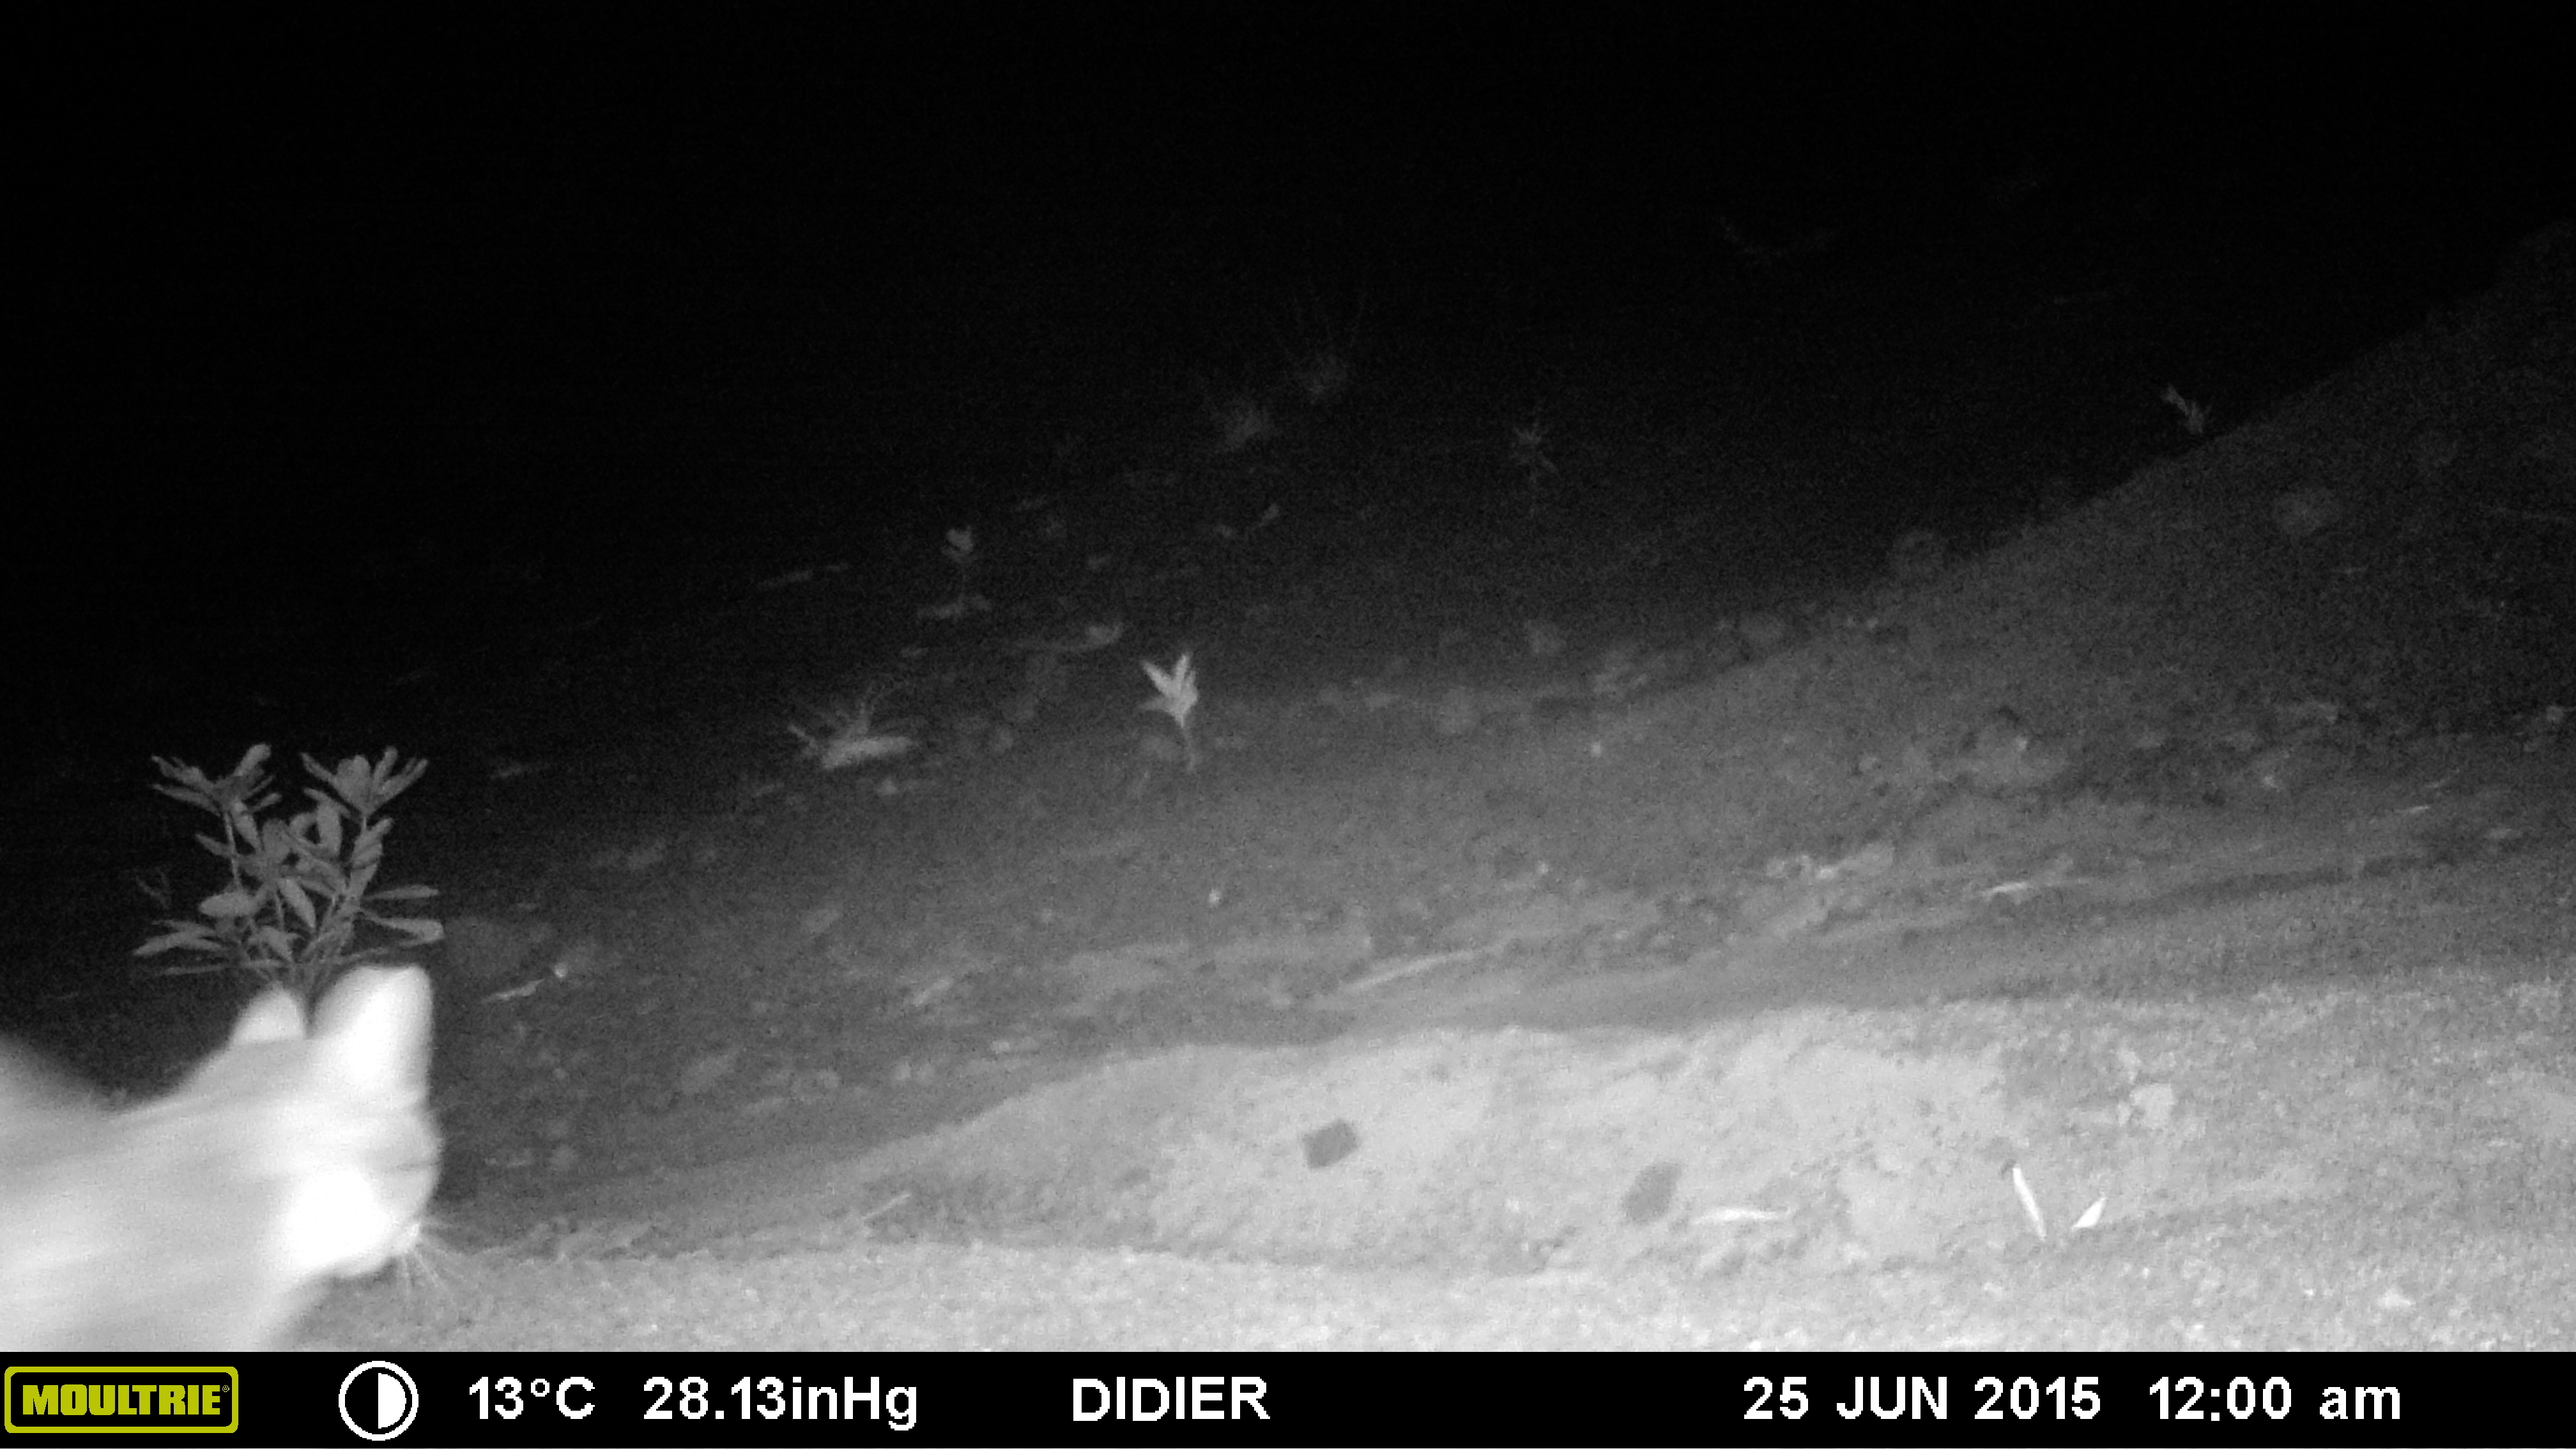cat: (11, 957, 442, 1341)
